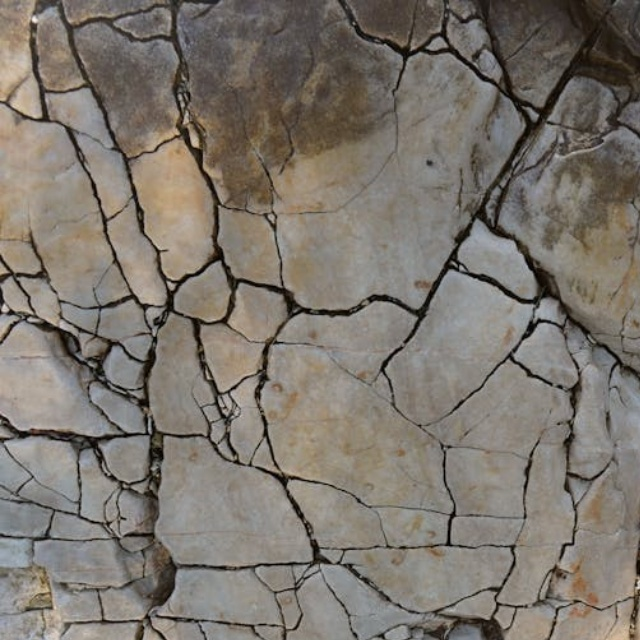细微裂纹: (426, 7, 580, 275)
网状裂隙: (397, 153, 640, 640)
